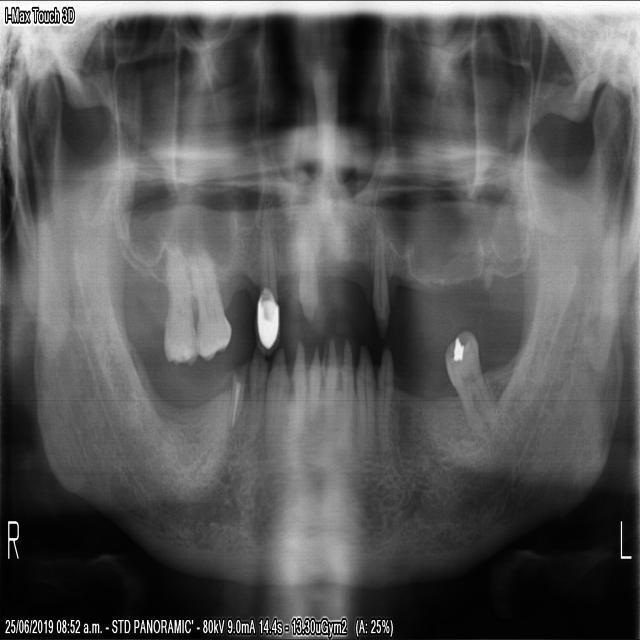LCD: (352, 335, 375, 478)
LMD: (438, 324, 501, 441)
RCD: (260, 336, 290, 471)
RCU: (252, 198, 283, 360)
RMU: (188, 240, 232, 366), (160, 244, 197, 368)
